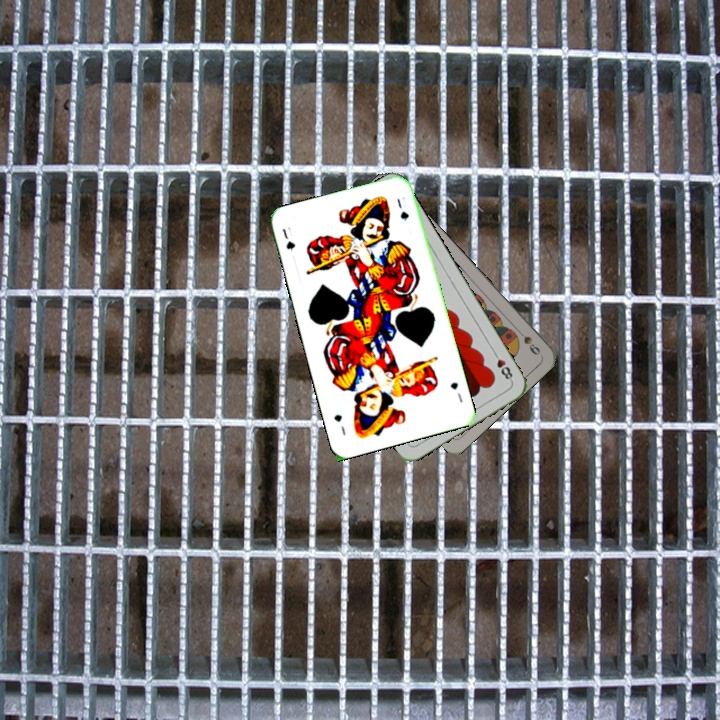GU: (278, 225, 298, 254), (446, 378, 465, 405)
H8: (489, 347, 515, 384)
S9: (512, 324, 543, 358)
